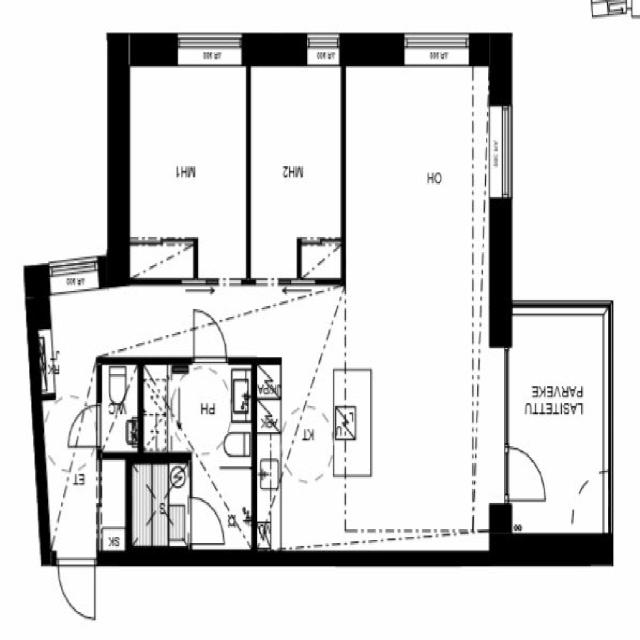door: (343, 62, 498, 558), (500, 437, 548, 505), (186, 305, 233, 366), (56, 555, 98, 623), (188, 492, 224, 542), (68, 401, 102, 450)
window: (484, 94, 516, 212), (396, 27, 476, 69), (170, 27, 247, 67), (42, 252, 105, 294), (301, 29, 342, 64), (212, 269, 246, 293), (254, 268, 284, 292)
zone: (125, 52, 248, 278), (502, 309, 610, 532), (248, 56, 344, 270), (138, 361, 254, 456), (43, 388, 102, 556), (130, 455, 190, 549), (98, 357, 140, 456), (335, 369, 373, 476)
